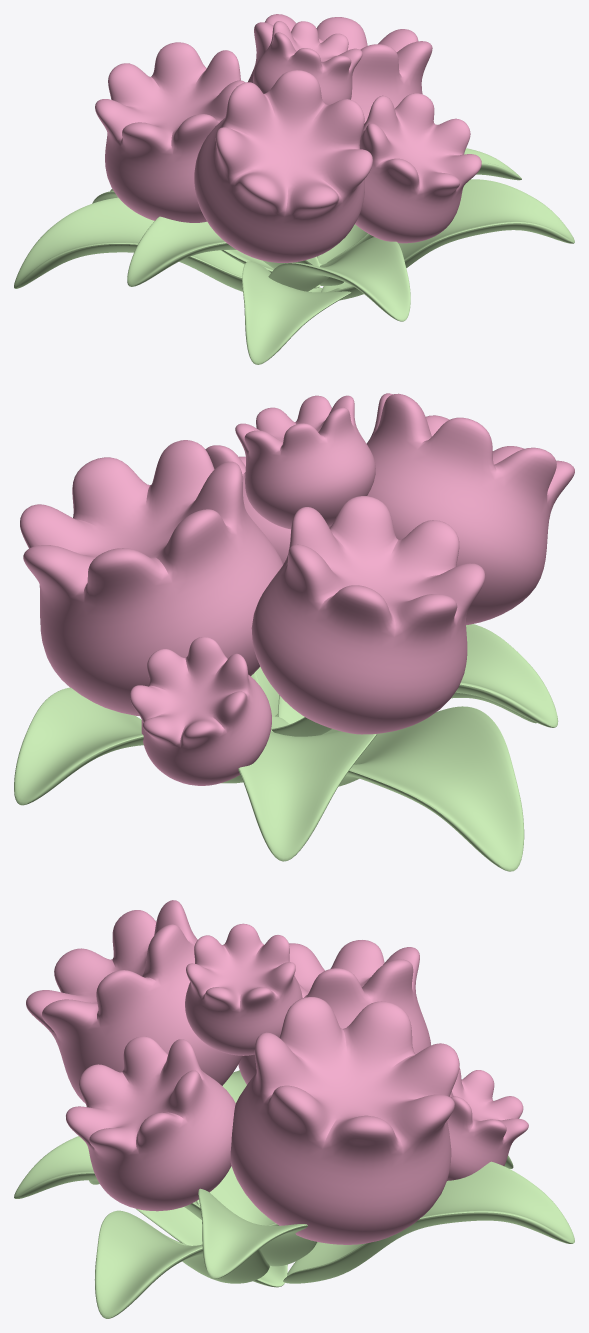
The model's file is Rosas.fbx.
The picture shows the model from 3 angles, top to bottom: view 1: azimuth 30°, elevation 25°; view 2: azimuth 150°, elevation 25°; view 3: azimuth 270°, elevation 25°; orthographic projection. The views are drawn at different scales.
Parts seen in each view (by area): view 1: Plane.025; view 2: Plane.025; view 3: Plane.025.
Part boxes in pixels (x1,y1,x2,y2): Plane.025: [14, 14, 574, 364]; Plane.025: [14, 393, 574, 871]; Plane.025: [14, 900, 574, 1318].
Bounding box in the file's own units: 165 × 102 × 157.
